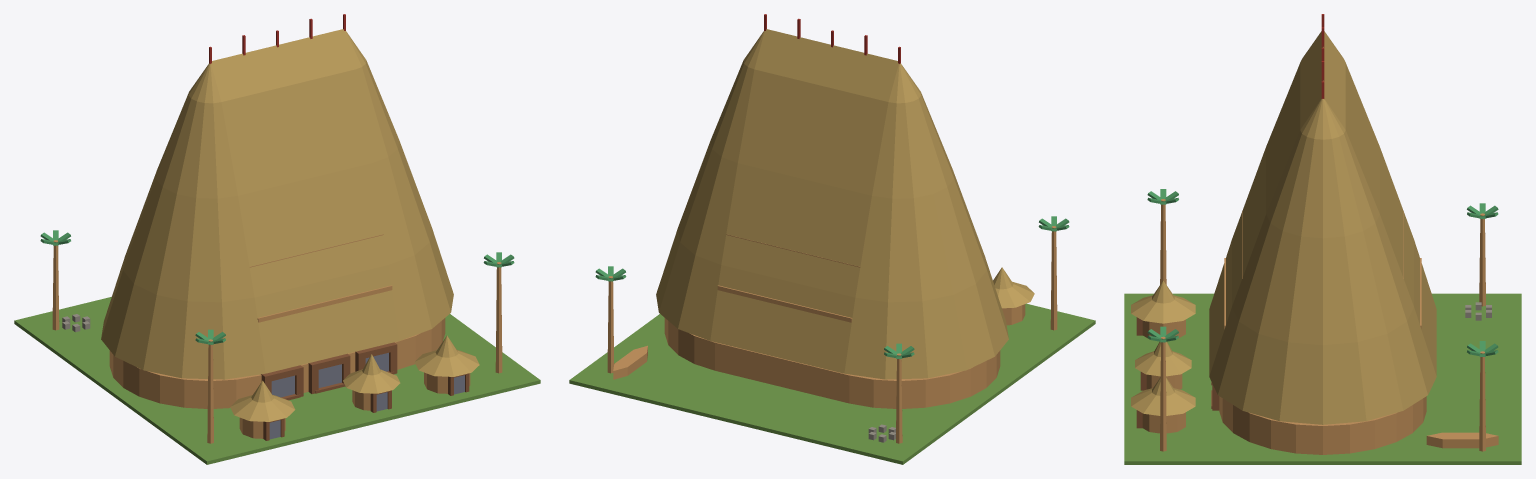
Rendered from house-2x2-5f-maloca-a.glb.
The picture shows the model from 3 angles, left to right: view 1: azimuth 30°, elevation 25°; view 2: azimuth 150°, elevation 25°; view 3: azimuth 270°, elevation 25°; orthographic projection. The views are drawn at different scales.
Visible parts, largest first — view 1: house-2x2-5f-maloca-a; view 2: house-2x2-5f-maloca-a; view 3: house-2x2-5f-maloca-a.
Part boxes in pixels (<box>): house-2x2-5f-maloca-a: <box>14,14,540,464</box>; house-2x2-5f-maloca-a: <box>569,14,1095,464</box>; house-2x2-5f-maloca-a: <box>1124,14,1521,464</box>.
Size of the model in its own units: 1.99 by 1.86 by 1.99.
1 material, 1 textured.
